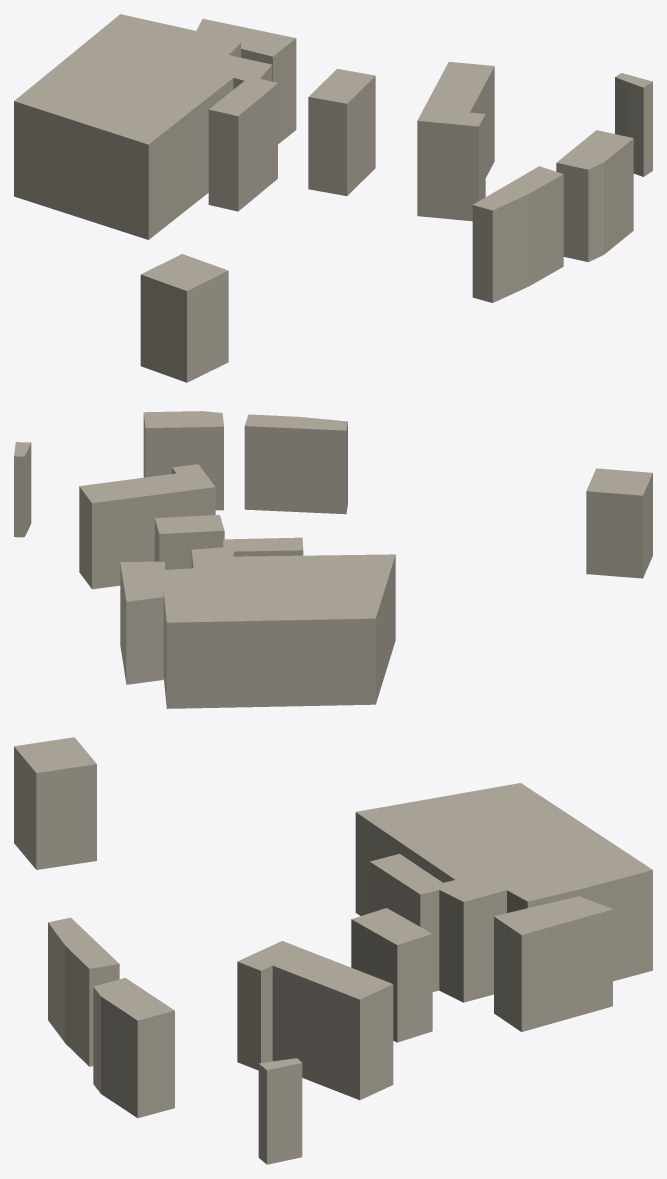
The model's file is kalkara_67_28_mid.glb.
3 views of the same model, one above another, from view 1: azimuth 30°, elevation 25°; view 2: azimuth 150°, elevation 25°; view 3: azimuth 270°, elevation 25° (orthographic). The views are drawn at different scales.
Parts seen in each view (by area): view 1: geometry_0; view 2: geometry_0; view 3: geometry_0.
Part boxes in pixels (x1,y1,x2,y2): geometry_0: (14, 14, 652, 382); geometry_0: (14, 411, 652, 708); geometry_0: (14, 737, 652, 1164).
Size of the model in its own units: 72.16 by 12.62 by 62.67.
